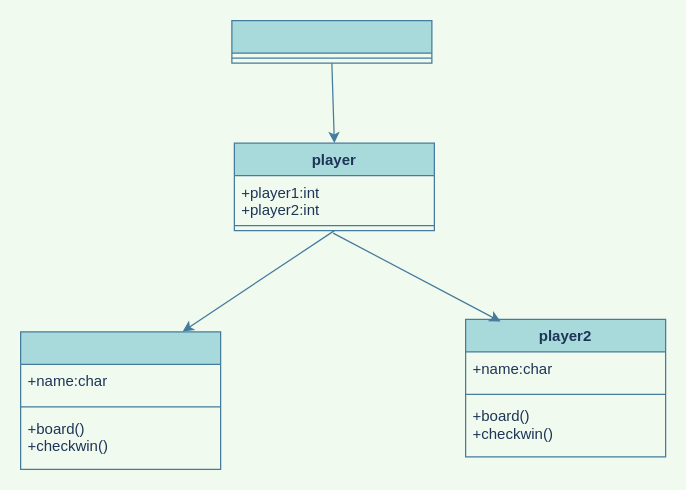
Image size: 686x490. Some labels were removed from this diagram. The shapes that lost their labels are listed below. From the top down, each one's box as (x1, y1, x2, y2) in pixels, then its label:
(231, 19, 432, 63): TicTacToe
(19, 331, 221, 469): player1
